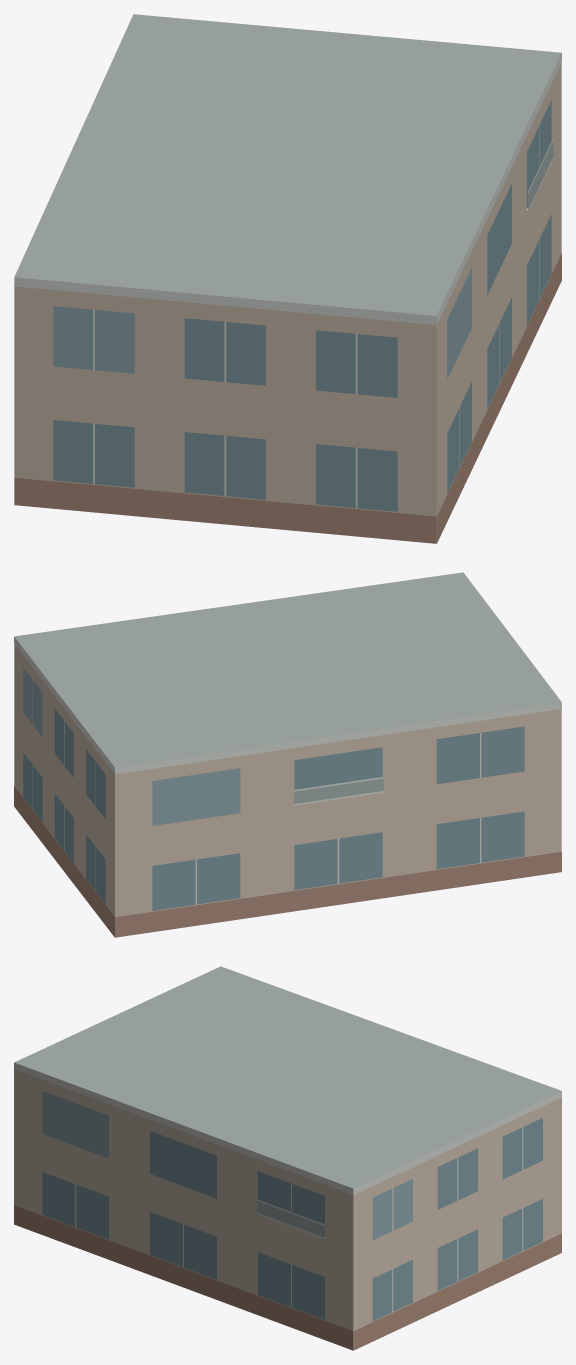
File: survey-upis-32624886.glb
3 renders of one model, top to bottom at view 1: azimuth 30°, elevation 25°; view 2: azimuth 150°, elevation 25°; view 3: azimuth 270°, elevation 25°, orthographic. The views are drawn at different scales.
Parts seen in each view (by area): view 1: survey-upis-32624886.tmp; view 2: survey-upis-32624886.tmp; view 3: survey-upis-32624886.tmp.
Part boxes in pixels (box(x1,y1,x2,y2)): survey-upis-32624886.tmp: box(14, 14, 561, 543); survey-upis-32624886.tmp: box(14, 572, 561, 937); survey-upis-32624886.tmp: box(14, 966, 561, 1350).
Size of the model in its own units: 17.97 by 6.1 by 18.7.
